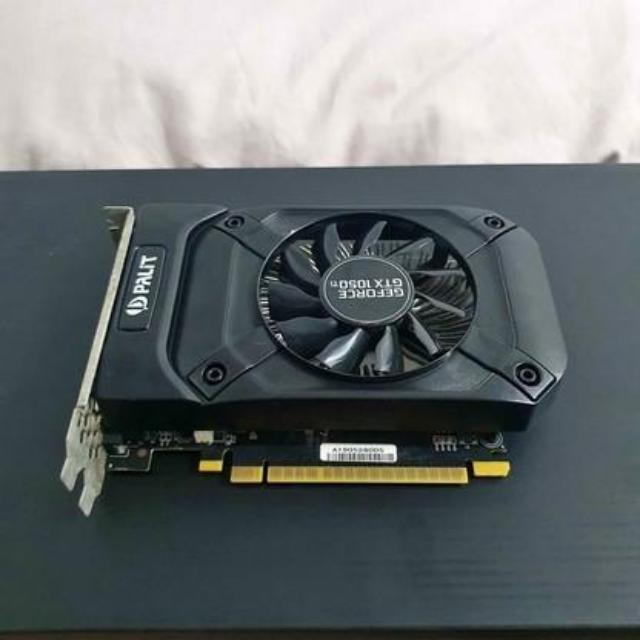GPU: (76, 196, 568, 502)
